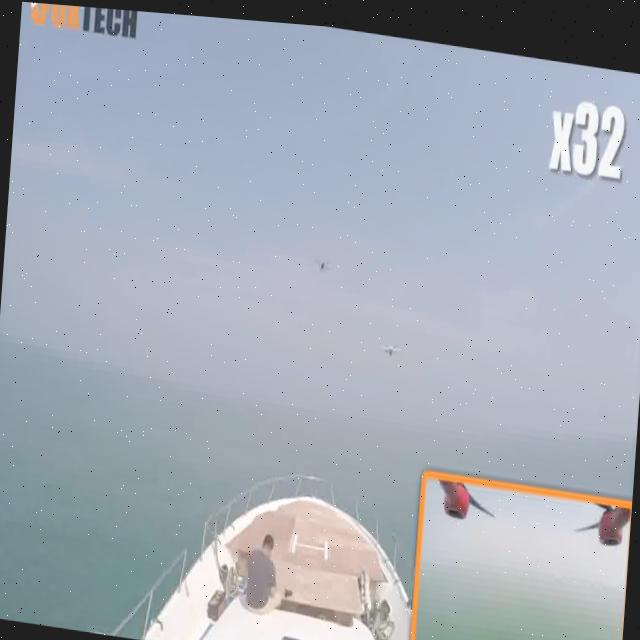drone: (372, 318, 402, 363), (308, 240, 335, 272)
